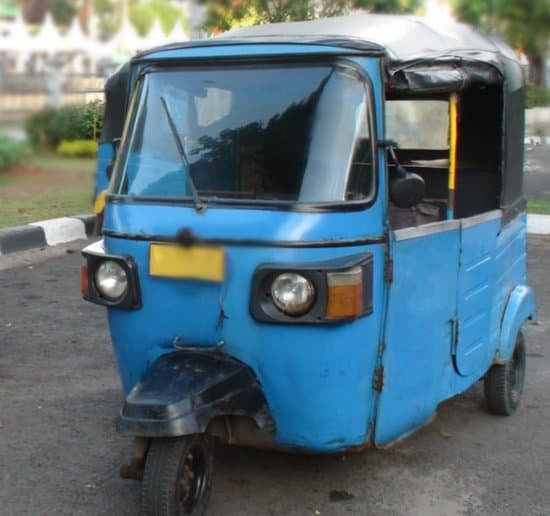threewheel: (80, 13, 537, 516)
